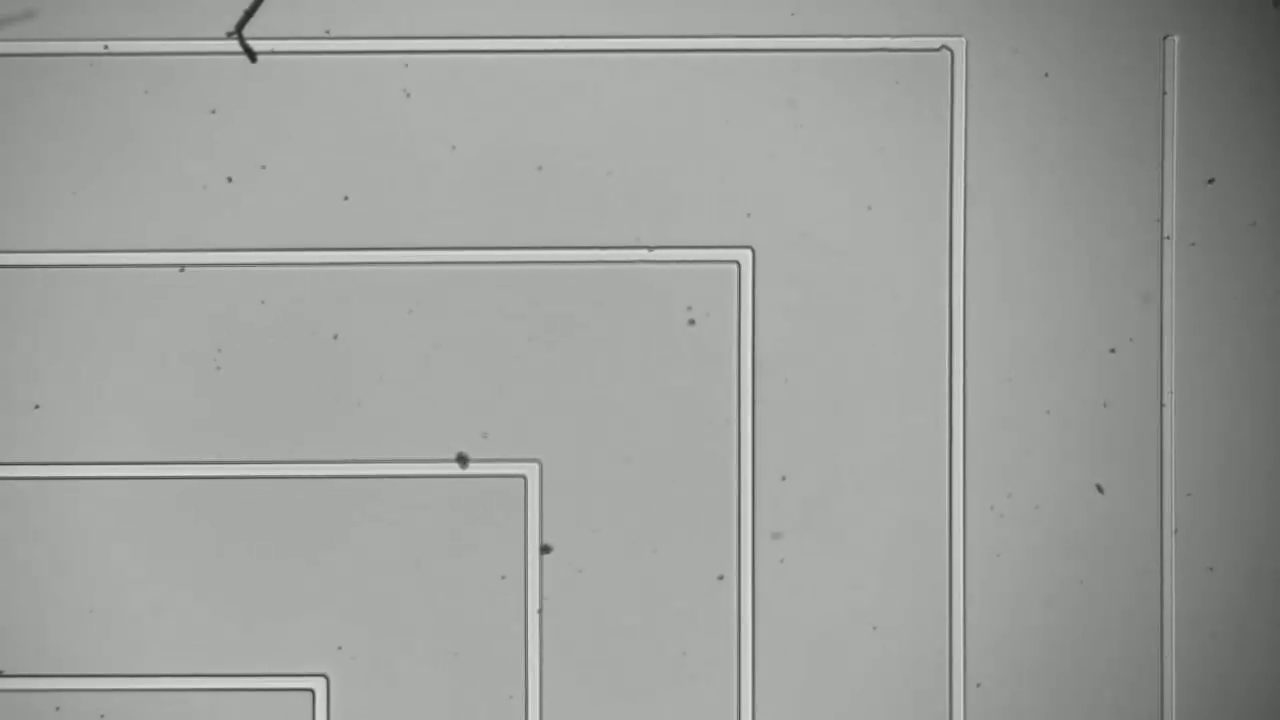edge_bite: (932, 30, 957, 56)
stains_enbedded: (450, 442, 483, 484)
